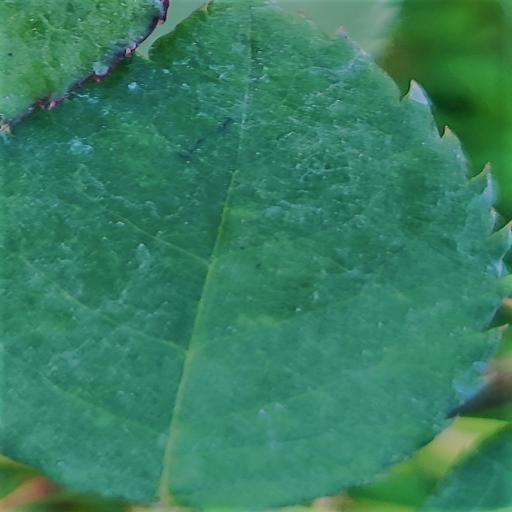healthy_leaf: (0, 0, 501, 509), (0, 0, 166, 127)
